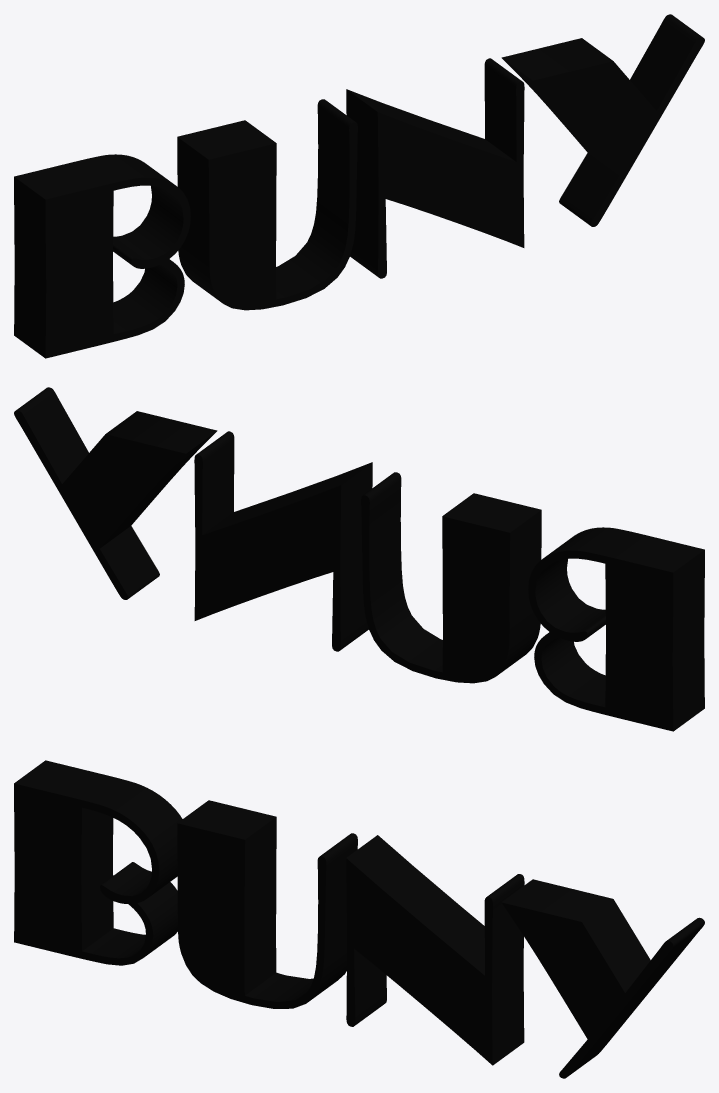
Rendered from buny-text.glb.
The picture shows the model from 3 angles, top to bottom: view 1: azimuth 30°, elevation 25°; view 2: azimuth 150°, elevation 25°; view 3: azimuth 330°, elevation 25°; orthographic projection.
Visible parts, largest first — view 1: mesh_id36; view 2: mesh_id36; view 3: mesh_id36.
Boxes of the visible parts, <box> form: mesh_id36: <box>14,14,704,358</box>; mesh_id36: <box>14,387,704,731</box>; mesh_id36: <box>14,760,704,1078</box>.
Size of the model in its own units: 0.4013 by 0.1 by 0.0333.
1 material, 1 textured.
